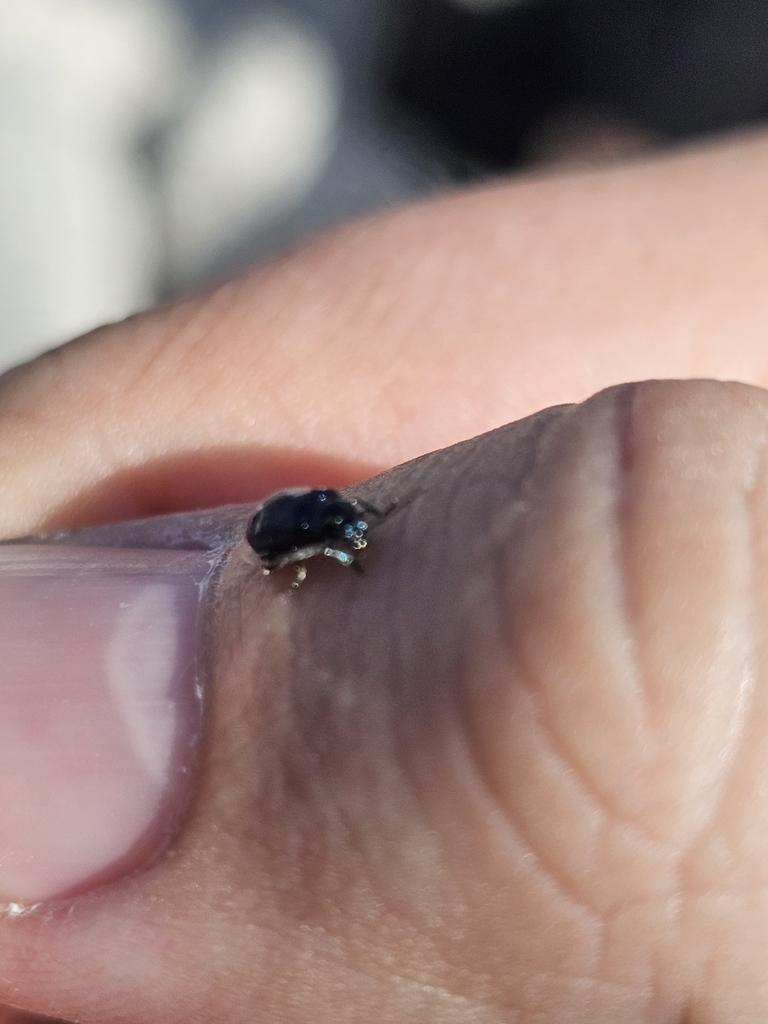flea_beetle: (210, 431, 417, 627)
